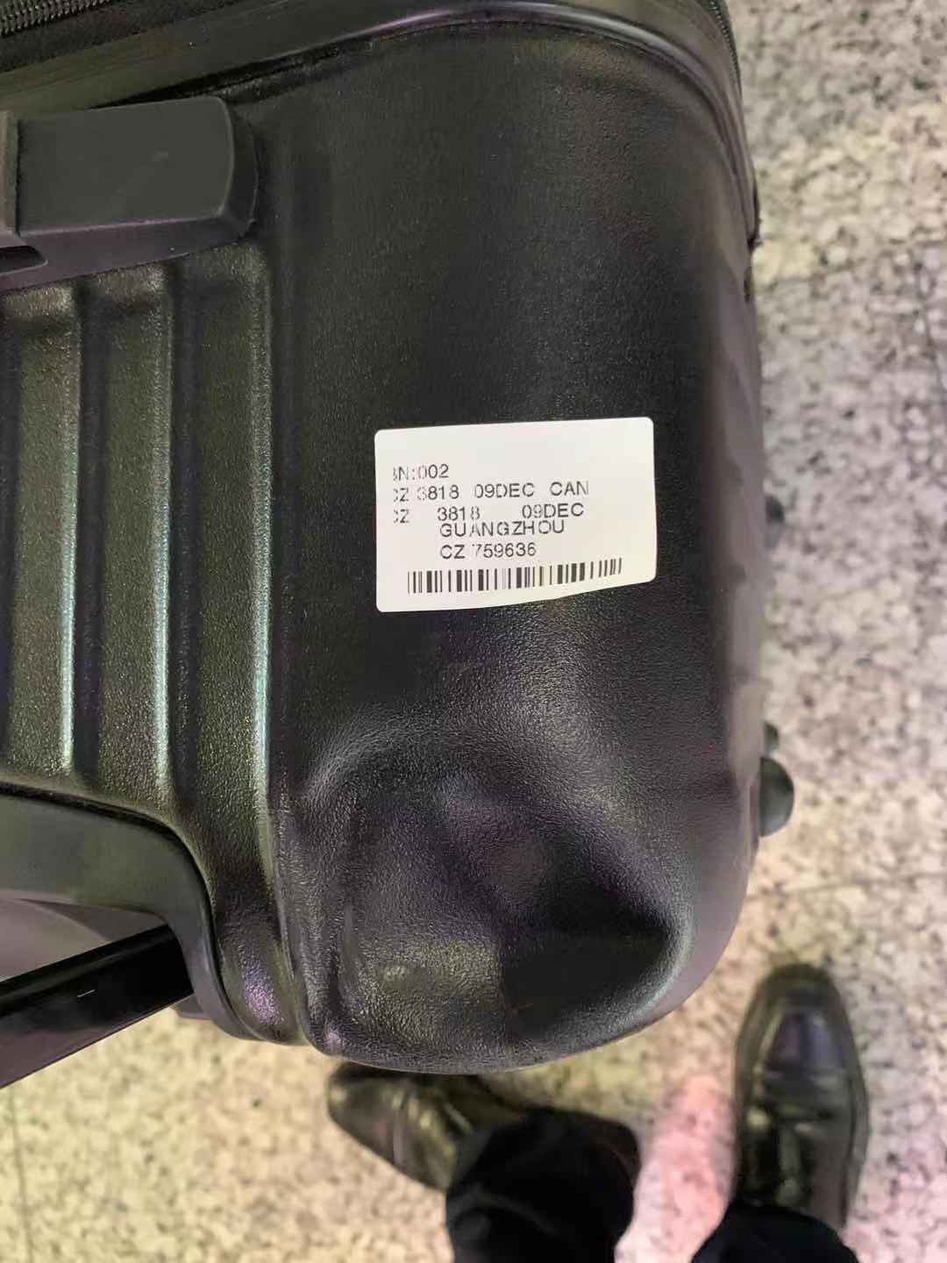rupture: (295, 723, 694, 1074)
